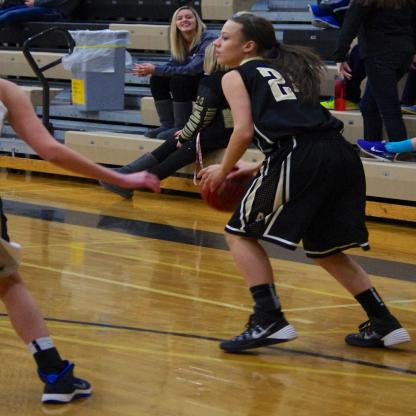Ball: (200, 168, 253, 215)
